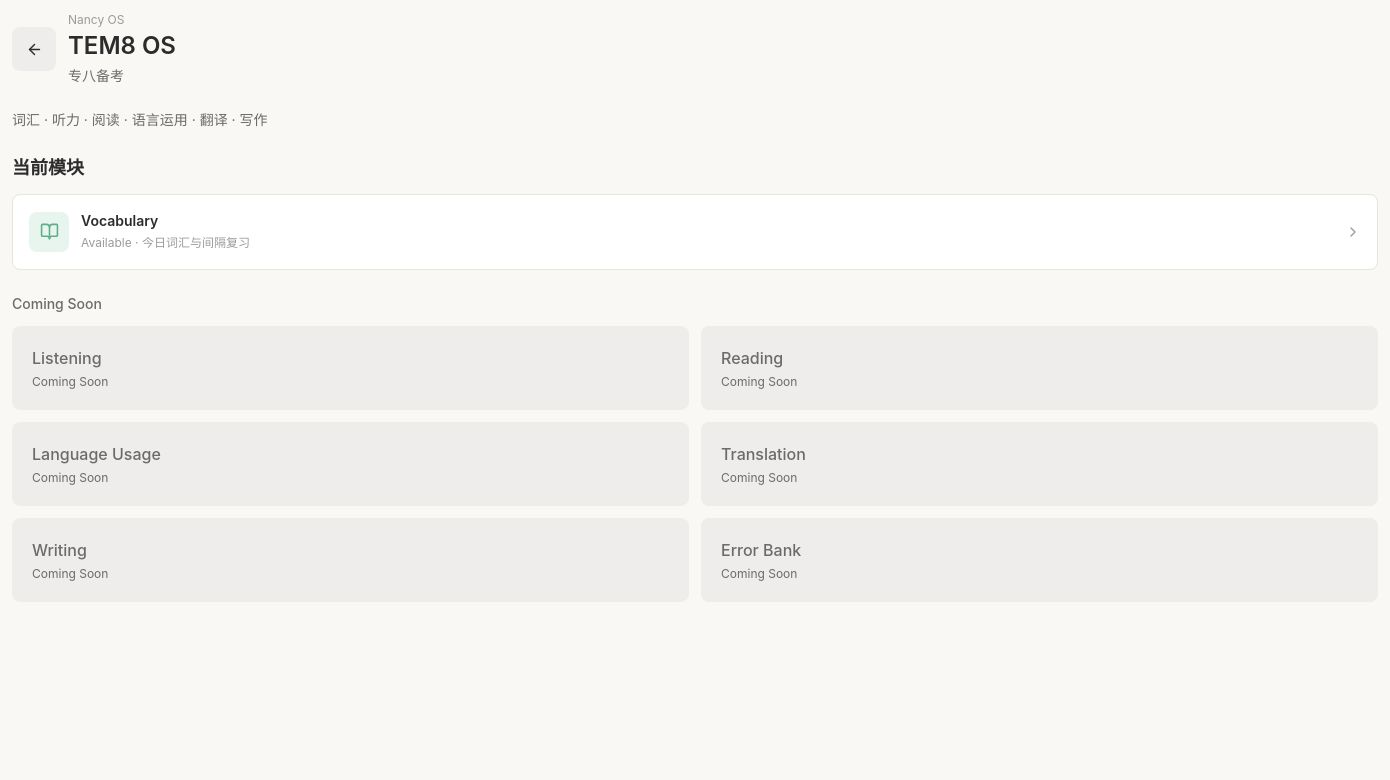
Scenario: TEM8 routing and progressive disclosure › exposes one TEM8 sidebar entry and six disabled future modules
Click the button "Vocabulary Available · 今日词汇与间隔复习" at (49, 232), box [12,194,1378,270]
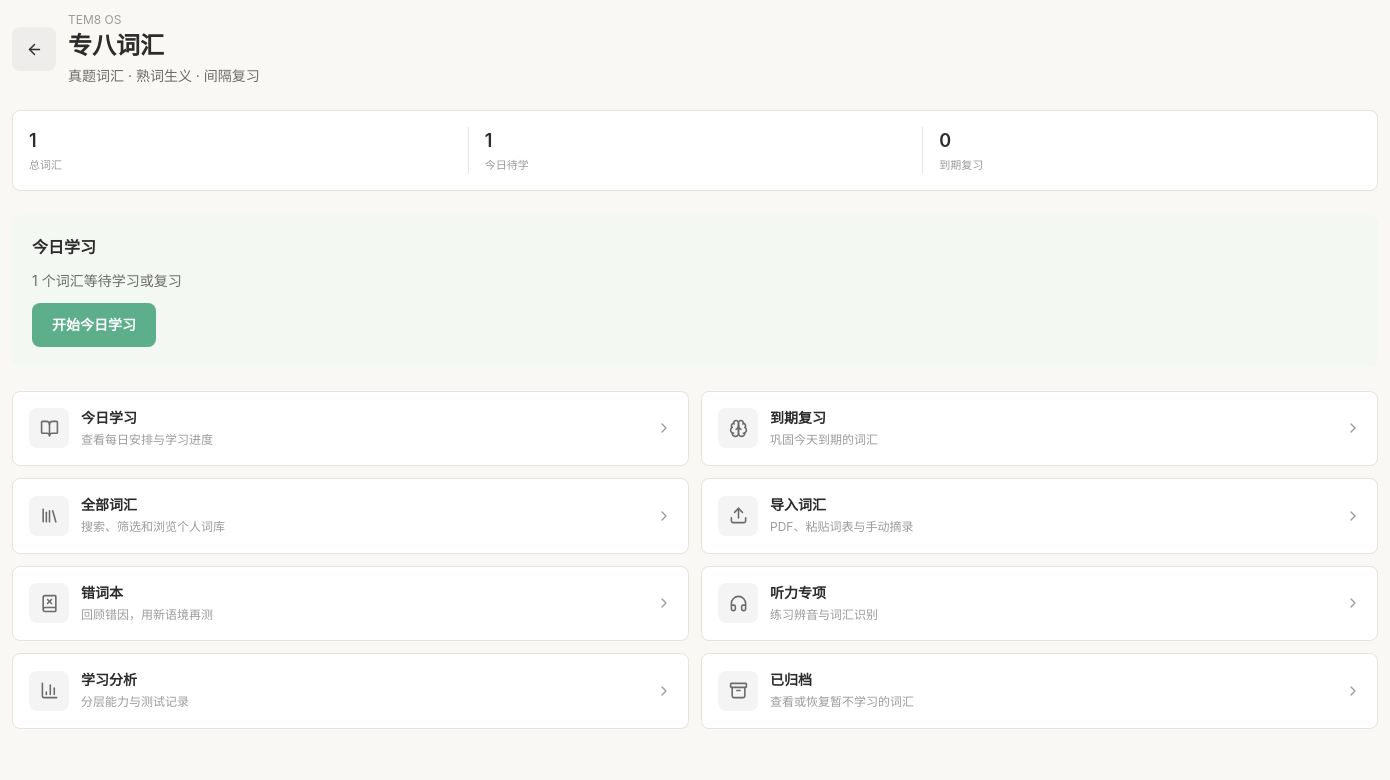
Expected: the heading "专八词汇" is shown, [68,31,164,60]
